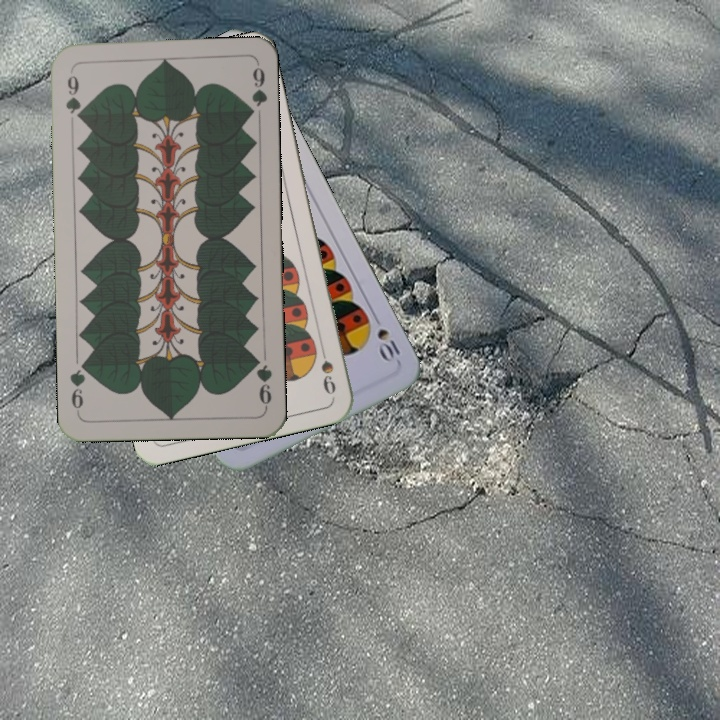G9: (249, 352, 275, 411), (61, 71, 85, 124)
S10: (368, 309, 403, 365)
S9: (315, 339, 339, 398)
